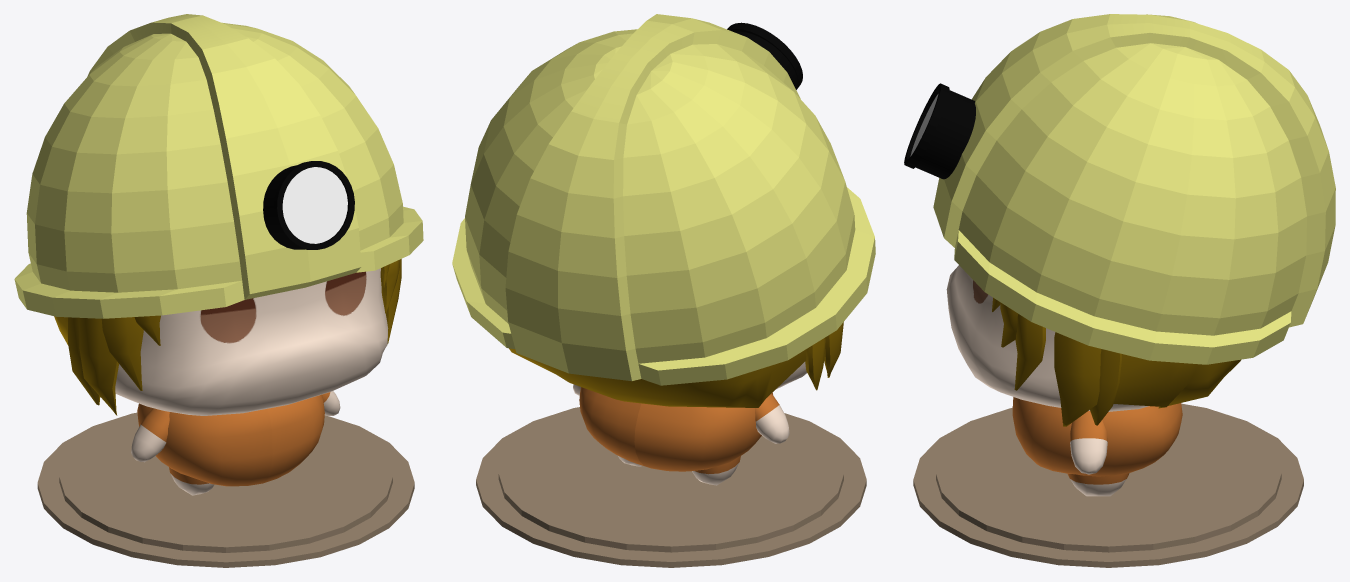
The model's file is mole.fbx.
The picture shows the model from 3 angles, left to right: view 1: azimuth 30°, elevation 25°; view 2: azimuth 150°, elevation 25°; view 3: azimuth 270°, elevation 25°; orthographic projection. The views are drawn at different scales.
Visible parts, largest first — view 1: mole20, koma_base, mole02, mole03, mole12, mole16, mole13, mole17, mole01, mole09, mole04, mole14; view 2: mole20, koma_base, mole03, mole08, mole01, mole13, mole09, mole04, mole16, mole12; view 3: mole20, koma_base, mole03, mole02, mole08, mole21, mole12, mole06, mole10, mole13, mole11, mole05 (+1 smaller).
Boxes of the visible parts, x1,y1,x2,y2 form: mole20: (14, 14, 423, 318); koma_base: (37, 412, 414, 567); mole02: (115, 268, 388, 415); mole03: (137, 394, 324, 486); mole12: (263, 165, 347, 249); mole16: (79, 318, 118, 415); mole13: (273, 161, 354, 249); mole17: (101, 317, 143, 390); mole01: (131, 408, 169, 462); mole09: (68, 317, 100, 405); mole04: (169, 467, 214, 495); mole14: (380, 259, 399, 313); mole20: (452, 14, 875, 385); koma_base: (476, 407, 866, 567); mole03: (579, 387, 773, 471); mole08: (509, 348, 806, 407); mole01: (755, 393, 789, 443); mole13: (727, 22, 802, 89); mole09: (805, 337, 825, 390); mole04: (692, 456, 740, 485); mole16: (824, 322, 843, 377); mole12: (734, 31, 797, 89); mole20: (933, 14, 1335, 364); koma_base: (913, 403, 1303, 567); mole03: (1012, 397, 1182, 476); mole02: (946, 265, 1148, 411); mole08: (1113, 354, 1240, 408); mole21: (1054, 332, 1101, 426); mole12: (910, 90, 975, 179); mole06: (1070, 411, 1107, 474); mole10: (1014, 314, 1045, 390); mole13: (904, 83, 949, 168); mole11: (1090, 349, 1121, 425); mole05: (1067, 473, 1129, 496).
Size of the model in its own units: 6.65 by 7.83 by 6.63.
Materials: 5 (1 with a texture image).
